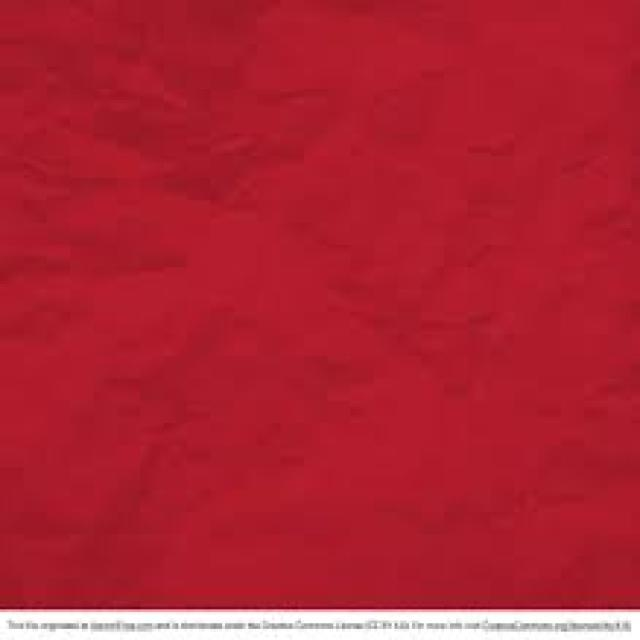paper: (0, 0, 637, 604)
